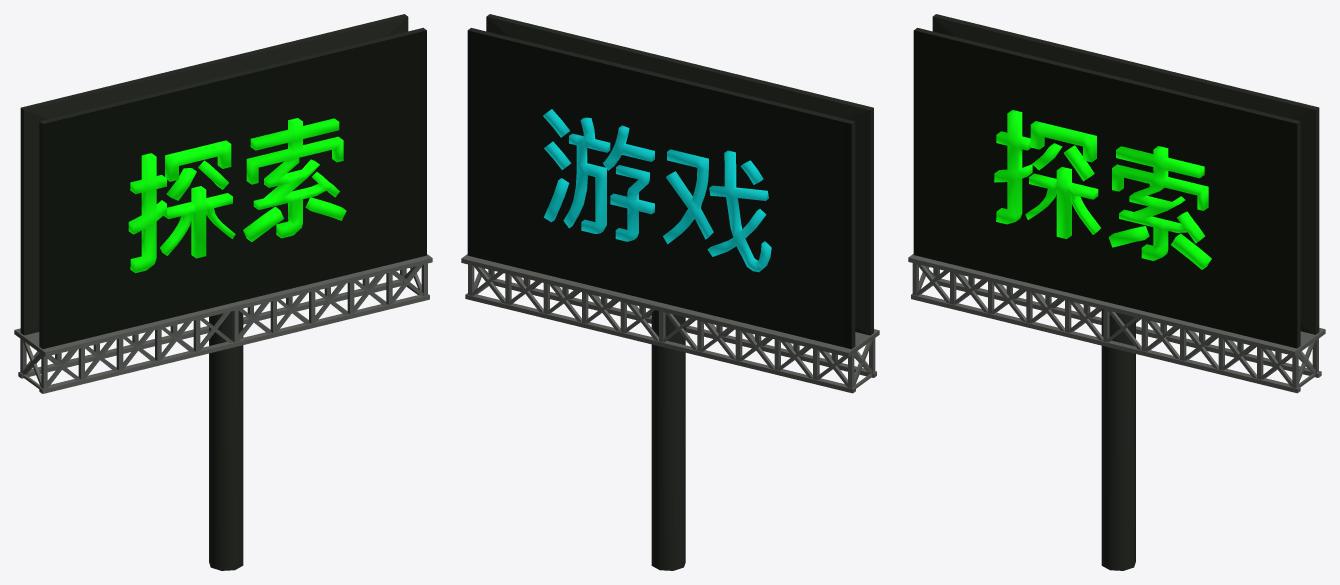
The model's file is Billboard_Explore_Game.glb.
The picture shows the model from 3 angles, left to right: view 1: azimuth 30°, elevation 25°; view 2: azimuth 150°, elevation 25°; view 3: azimuth 330°, elevation 25°; orthographic projection.
Parts seen in each view (by area): view 1: billboard_Explore_Game; view 2: billboard_Explore_Game; view 3: billboard_Explore_Game.
Boxes of the visible parts, <box> form: billboard_Explore_Game: <box>14,14,432,570</box>; billboard_Explore_Game: <box>461,14,879,570</box>; billboard_Explore_Game: <box>908,14,1325,570</box>.
Size of what is drawn, in the model's own units: 4.09 by 5 by 0.5852.
Materials: 1 (1 with a texture image).
